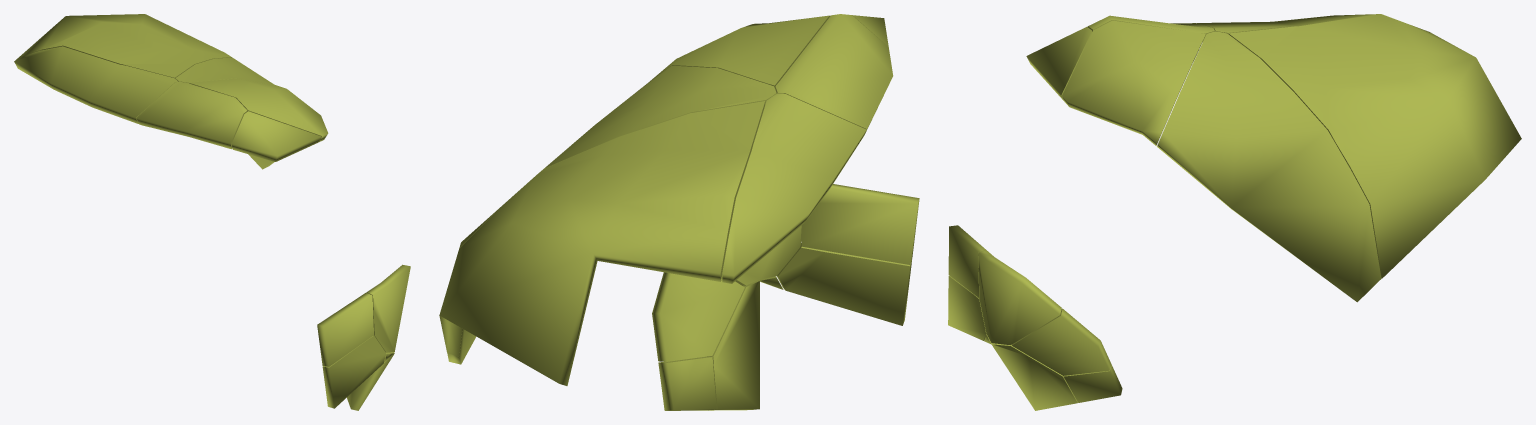
File: Plaque_09.fbx
3 views of the same model, side by side, from view 1: azimuth 30°, elevation 25°; view 2: azimuth 150°, elevation 25°; view 3: azimuth 270°, elevation 25° (orthographic). The views are drawn at different scales.
Visible parts, largest first — view 1: tooth_d.045_cell, tooth_d.045_cell.001, tooth_d.045_cell.004, tooth_d.045_cell.002, tooth_d.045_cell.003, tooth_d.048_cell.002, tooth_d.048_cell.004, tooth_d.048_cell.005, tooth_d.045_cell.005, tooth_d.048_cell.001; view 2: tooth_d.045_cell, tooth_d.045_cell.001, tooth_d.045_cell.004, tooth_d.045_cell.005, tooth_d.048_cell.002, tooth_d.048_cell.004, tooth_d.048_cell.003, tooth_d.045_cell.002, tooth_d.048_cell.001, tooth_d.048_cell, tooth_d.048_cell.005, tooth_d.045_cell.003; view 3: tooth_d.045_cell, tooth_d.045_cell.005, tooth_d.045_cell.002, tooth_d.048_cell.005, tooth_d.048_cell.003, tooth_d.048_cell.001, tooth_d.045_cell.003, tooth_d.048_cell.002, tooth_d.048_cell.004, tooth_d.048_cell, tooth_d.045_cell.001, tooth_d.045_cell.004.
Boxes of the visible parts, x1,y1,x2,y2 form: tooth_d.045_cell: (19,14,231,78); tooth_d.045_cell.001: (14,46,177,123); tooth_d.045_cell.004: (136,81,247,149); tooth_d.045_cell.002: (189,78,328,141); tooth_d.045_cell.003: (231,111,321,161); tooth_d.048_cell.002: (317,292,373,366); tooth_d.048_cell.004: (322,335,385,408); tooth_d.048_cell.005: (366,264,410,352); tooth_d.045_cell.005: (175,57,279,169); tooth_d.048_cell.001: (347,352,394,410); tooth_d.045_cell: (439,101,765,385); tooth_d.045_cell.001: (722,93,866,283); tooth_d.045_cell.004: (775,14,893,138); tooth_d.045_cell.005: (447,65,776,364); tooth_d.048_cell.002: (801,184,919,264); tooth_d.048_cell.004: (777,243,911,325); tooth_d.048_cell.003: (652,272,744,361); tooth_d.045_cell.002: (649,15,830,88); tooth_d.048_cell.001: (707,276,783,410); tooth_d.048_cell: (658,356,716,410); tooth_d.048_cell.005: (735,224,802,285); tooth_d.045_cell.003: (852,15,888,46); tooth_d.045_cell: (1228,14,1521,278); tooth_d.045_cell.005: (1157,31,1381,302); tooth_d.045_cell.002: (1062,20,1205,145); tooth_d.048_cell.005: (978,250,1061,344); tooth_d.048_cell.003: (1011,308,1111,375); tooth_d.048_cell.001: (984,334,1077,410); tooth_d.045_cell.003: (1026,27,1092,101); tooth_d.048_cell.002: (948,225,986,297); tooth_d.048_cell.004: (948,275,986,340); tooth_d.048_cell: (1063,365,1122,402); tooth_d.045_cell.001: (1197,14,1432,33); tooth_d.045_cell.004: (1087,15,1214,42).
Bounding box in the file's own units: 61.17 × 79.31 × 120.
